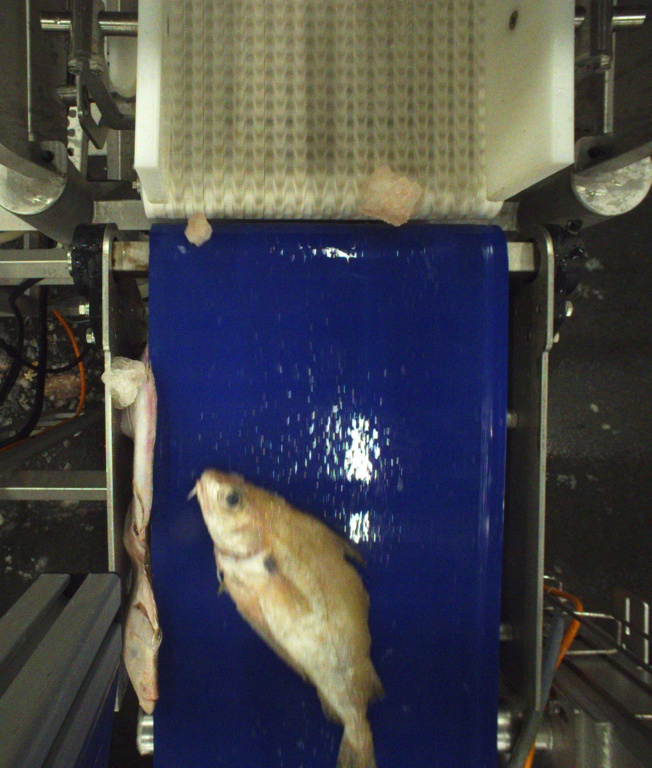BIB: (191, 467, 387, 768)
